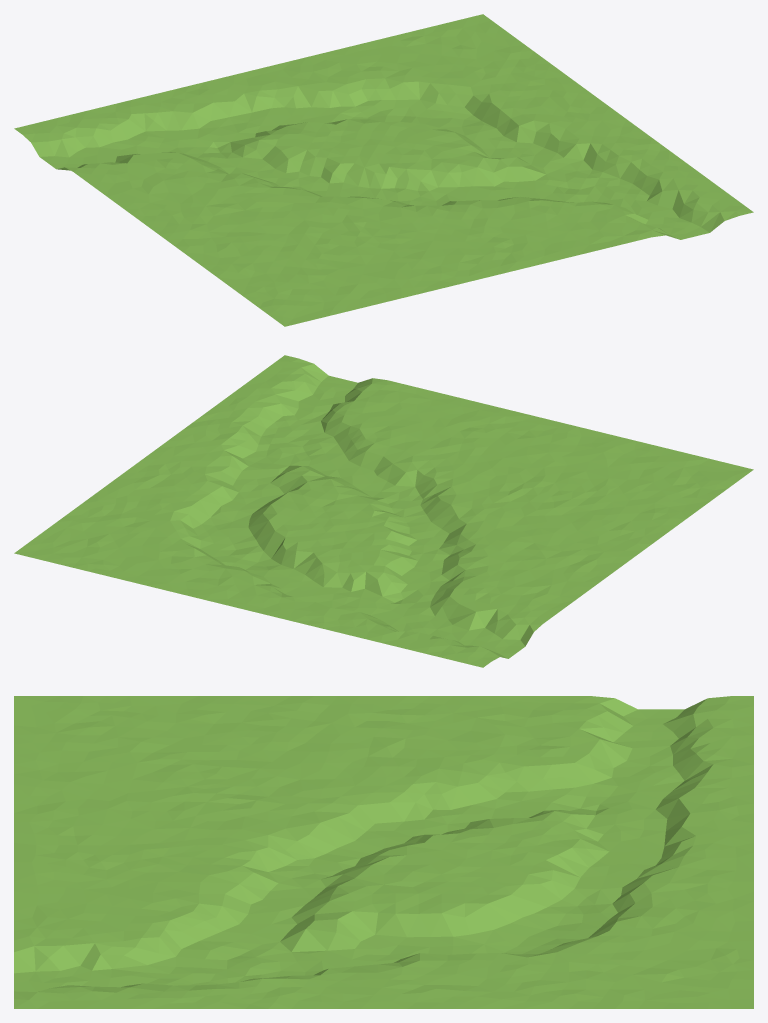
File: MT_River_L_b_02_R_LOD.fbx
3 views of the same model, one above another, from view 1: azimuth 30°, elevation 25°; view 2: azimuth 150°, elevation 25°; view 3: azimuth 270°, elevation 25° (orthographic). The views are drawn at different scales.
Parts seen in each view (by area): view 1: MT_River_L_b_02_R_LOD0; view 2: MT_River_L_b_02_R_LOD0; view 3: MT_River_L_b_02_R_LOD0.
Part boxes in pixels (<box>): MT_River_L_b_02_R_LOD0: <box>14,14,753,326</box>; MT_River_L_b_02_R_LOD0: <box>14,355,753,667</box>; MT_River_L_b_02_R_LOD0: <box>14,696,753,1008</box>.
Size of what is drawn, in the model's own units: 100 by 2.73 by 100.
